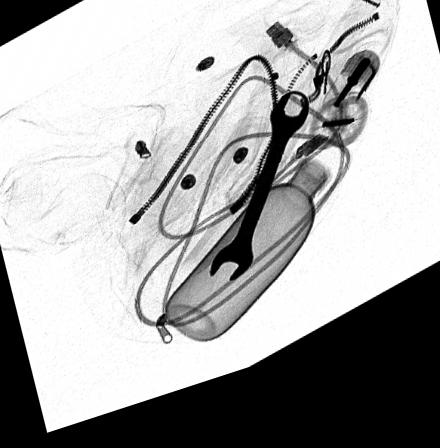Wrench: (207, 104, 309, 295)
